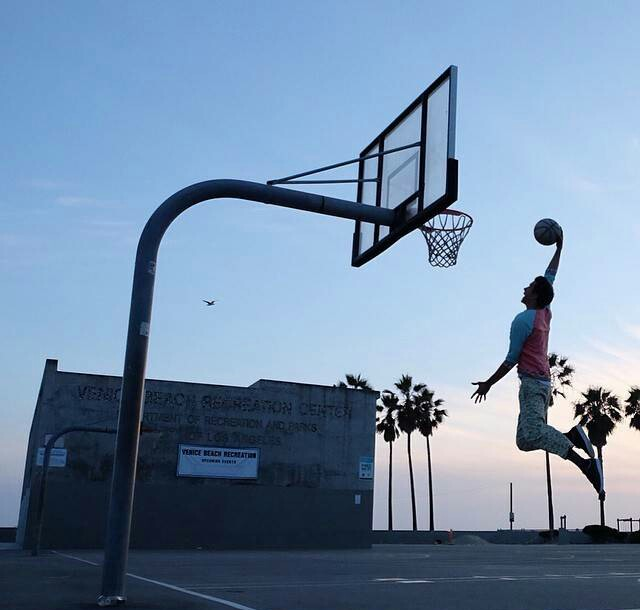ball: (533, 218, 561, 246)
